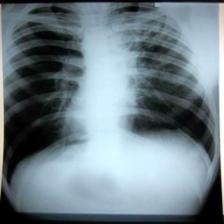tuberculosis: (3, 3, 216, 191)
